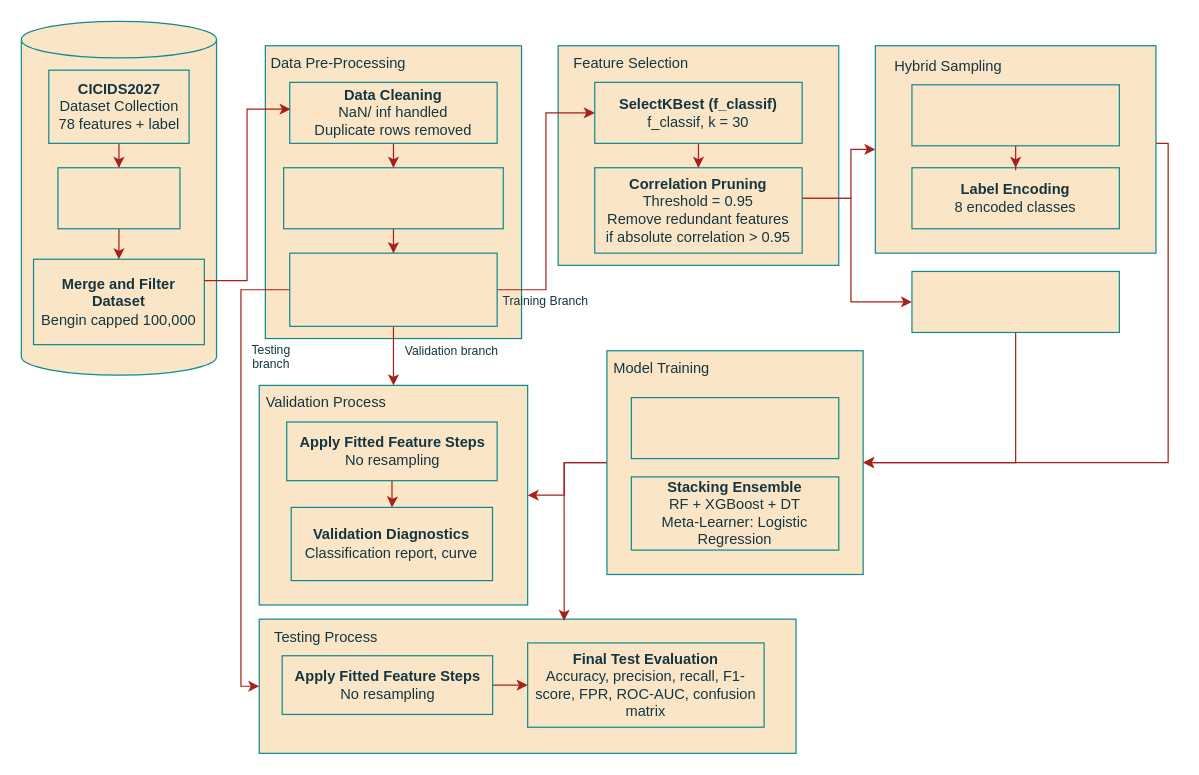
Image size: 1199x775. Some labels were removed from this diagram. Here are the shapes that lost their labels. From the top down, the box of each, then its label:
(911, 84, 1119, 146): SMOTE-Tomek Training set only
(57, 167, 180, 229): Label Mapping 8 target Classes
(282, 167, 503, 229): Keep Numeric Features Keep Numeric columns Remove zero-variance columns
(289, 252, 497, 326): Startified Split 49% Train | 21% Validation | 30% Test
(911, 270, 1119, 332): No Sampling Baseline Same models without SMOTE-Tomek
(630, 396, 839, 459): Soft Voting Ensamble RF + XGBoost + KNN
